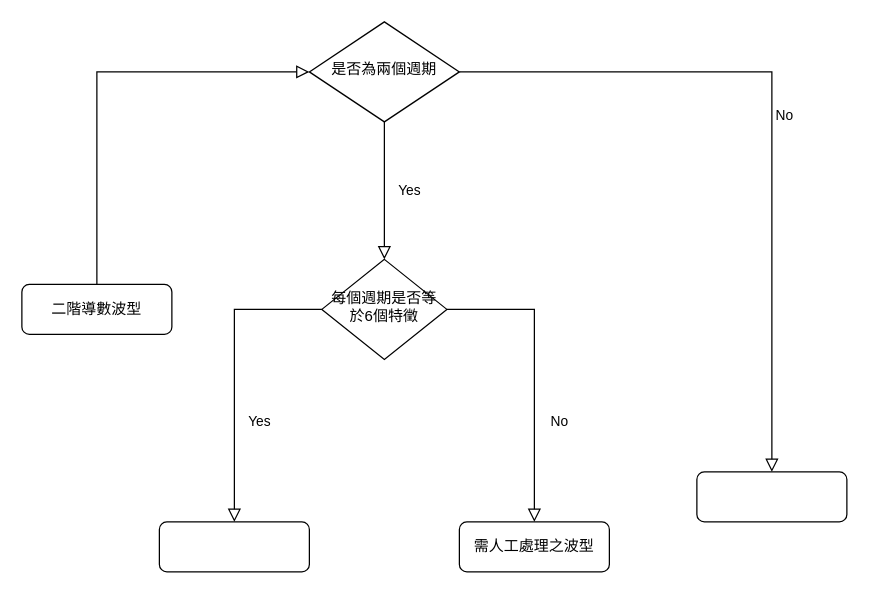
Some shapes in this 869 by 594 pixel diagram are drawn without their labels. Each missing label, with the centre of its shape:
"無法使用之波型" belongs at [771,496].
"良好品質之波型" belongs at [233,546].
